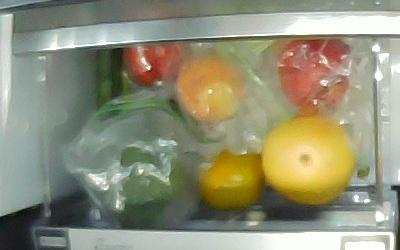apple_vinyl: (279, 37, 351, 110), (123, 41, 185, 88)
broccoli_vinyl: (122, 147, 185, 230)
cucumber_vinyl: (96, 50, 122, 123)
grapefruit: (261, 117, 355, 203)
peach_vinyl: (177, 55, 245, 122)
persimmon_vinyl: (198, 148, 263, 208)
